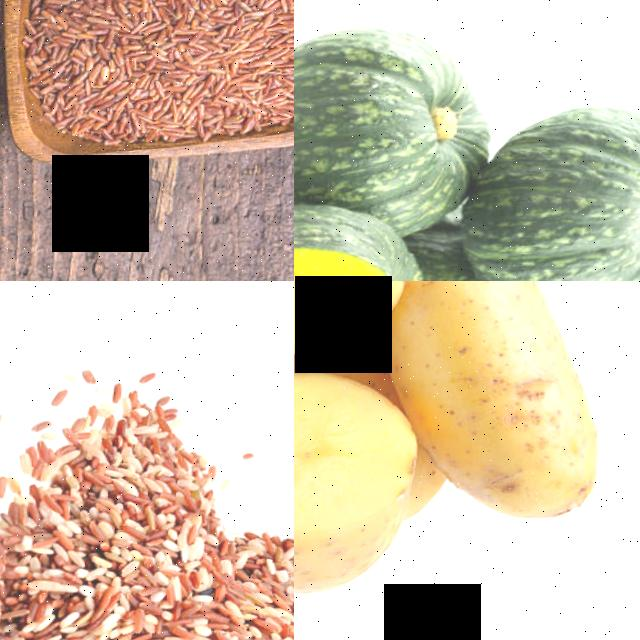potato: (392, 281, 626, 532), (294, 361, 437, 608)
pumpkin: (294, 14, 497, 212), (482, 94, 640, 281)
red rice: (0, 380, 246, 640), (15, 0, 294, 150), (154, 539, 294, 640)
